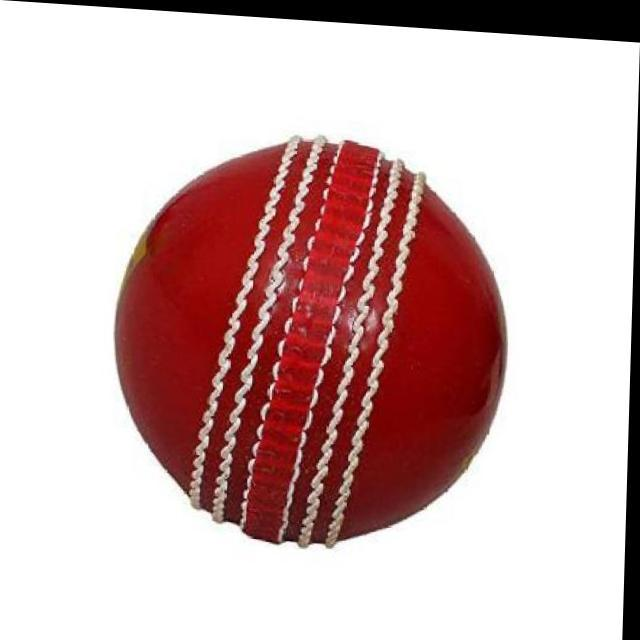-: (120, 173, 505, 504)
